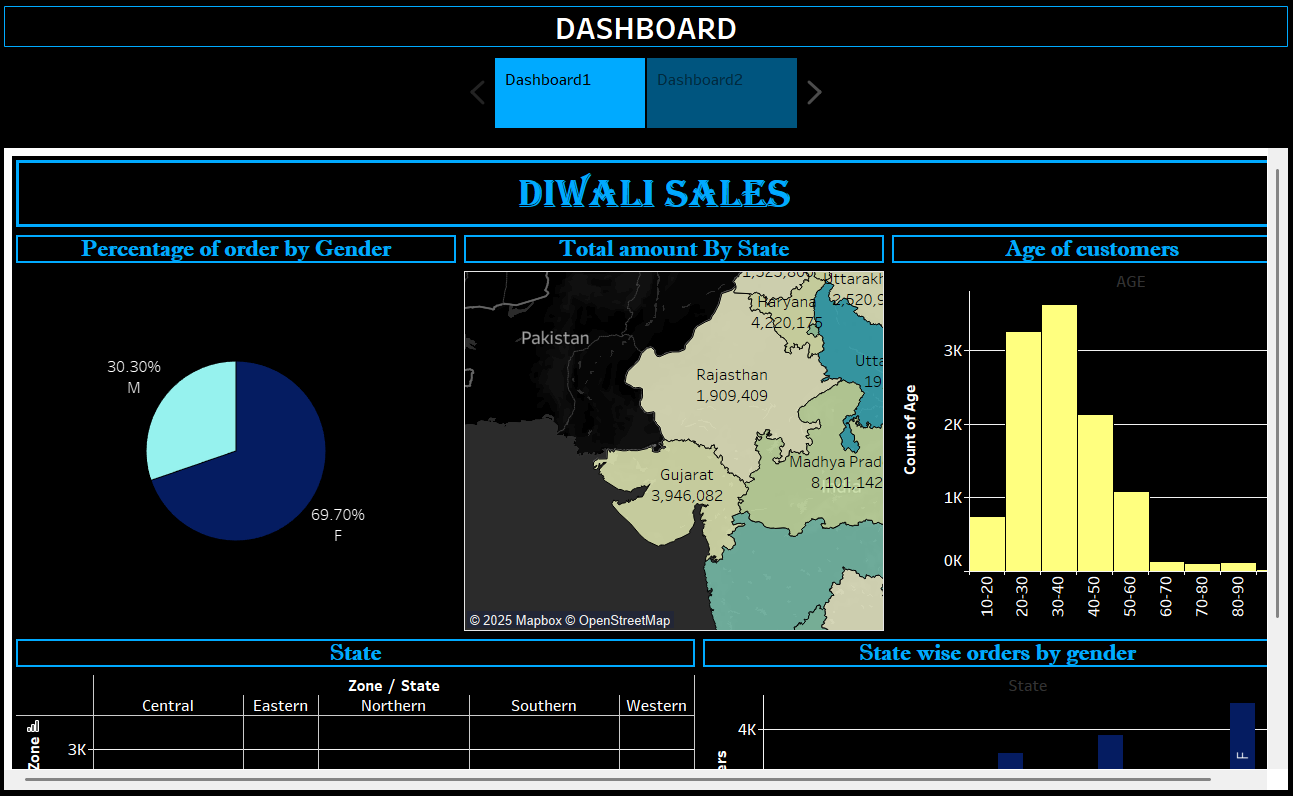

What the dashboard file says about the page in this screenshot:
{"tool":"tableau","page":{"name":"Dashboard 1","canvas":[1300,800],"ordinal":0},"visuals":[{"type":"text","box":[8,8,1284,75]},{"type":"text","box":[8,83,448,36]},{"type":"text","box":[456,83,428,36]},{"type":"text","box":[884,83,408,36]},{"type":"worksheet","title":"Percentage of amount by gender","mark":"Pie","box":[8,119,448,368]},{"type":"worksheet","title":"Total amount by state","mark":"Automatic","box":[456,119,428,368]},{"type":"worksheet","title":"Age of customers","mark":"Automatic","rows":["Age"],"cols":["Age (bin)"],"box":[884,119,408,368]},{"type":"text","box":[8,487,687,36]},{"type":"text","box":[695,487,596.8,36]},{"type":"worksheet","title":"State","mark":"Bar","rows":["Zone"],"cols":["Zone","State"],"box":[8,523,687,269]},{"type":"worksheet","title":"state wiseorders by gender","mark":"Automatic","rows":["Orders"],"cols":["State"],"box":[695,523,596.8,269]}]}

Visuals, with their boxes on the page's 1300x800 design canvas (x1, y1, x2, y2). These are canvas units, not pixel positions in the 1293x796 screenshot, which may show the page scaled, cropped or inside an application window:
text: {"left": 8, "top": 8, "right": 1292, "bottom": 83}
text: {"left": 8, "top": 83, "right": 456, "bottom": 119}
text: {"left": 456, "top": 83, "right": 884, "bottom": 119}
text: {"left": 884, "top": 83, "right": 1292, "bottom": 119}
"Percentage of amount by gender" worksheet (Pie marks): {"left": 8, "top": 119, "right": 456, "bottom": 487}
"Total amount by state" worksheet: {"left": 456, "top": 119, "right": 884, "bottom": 487}
"Age of customers" worksheet: {"left": 884, "top": 119, "right": 1292, "bottom": 487}
text: {"left": 8, "top": 487, "right": 695, "bottom": 523}
text: {"left": 695, "top": 487, "right": 1292, "bottom": 523}
"State" worksheet (Bar marks): {"left": 8, "top": 523, "right": 695, "bottom": 792}
"state wiseorders by gender" worksheet: {"left": 695, "top": 523, "right": 1292, "bottom": 792}
